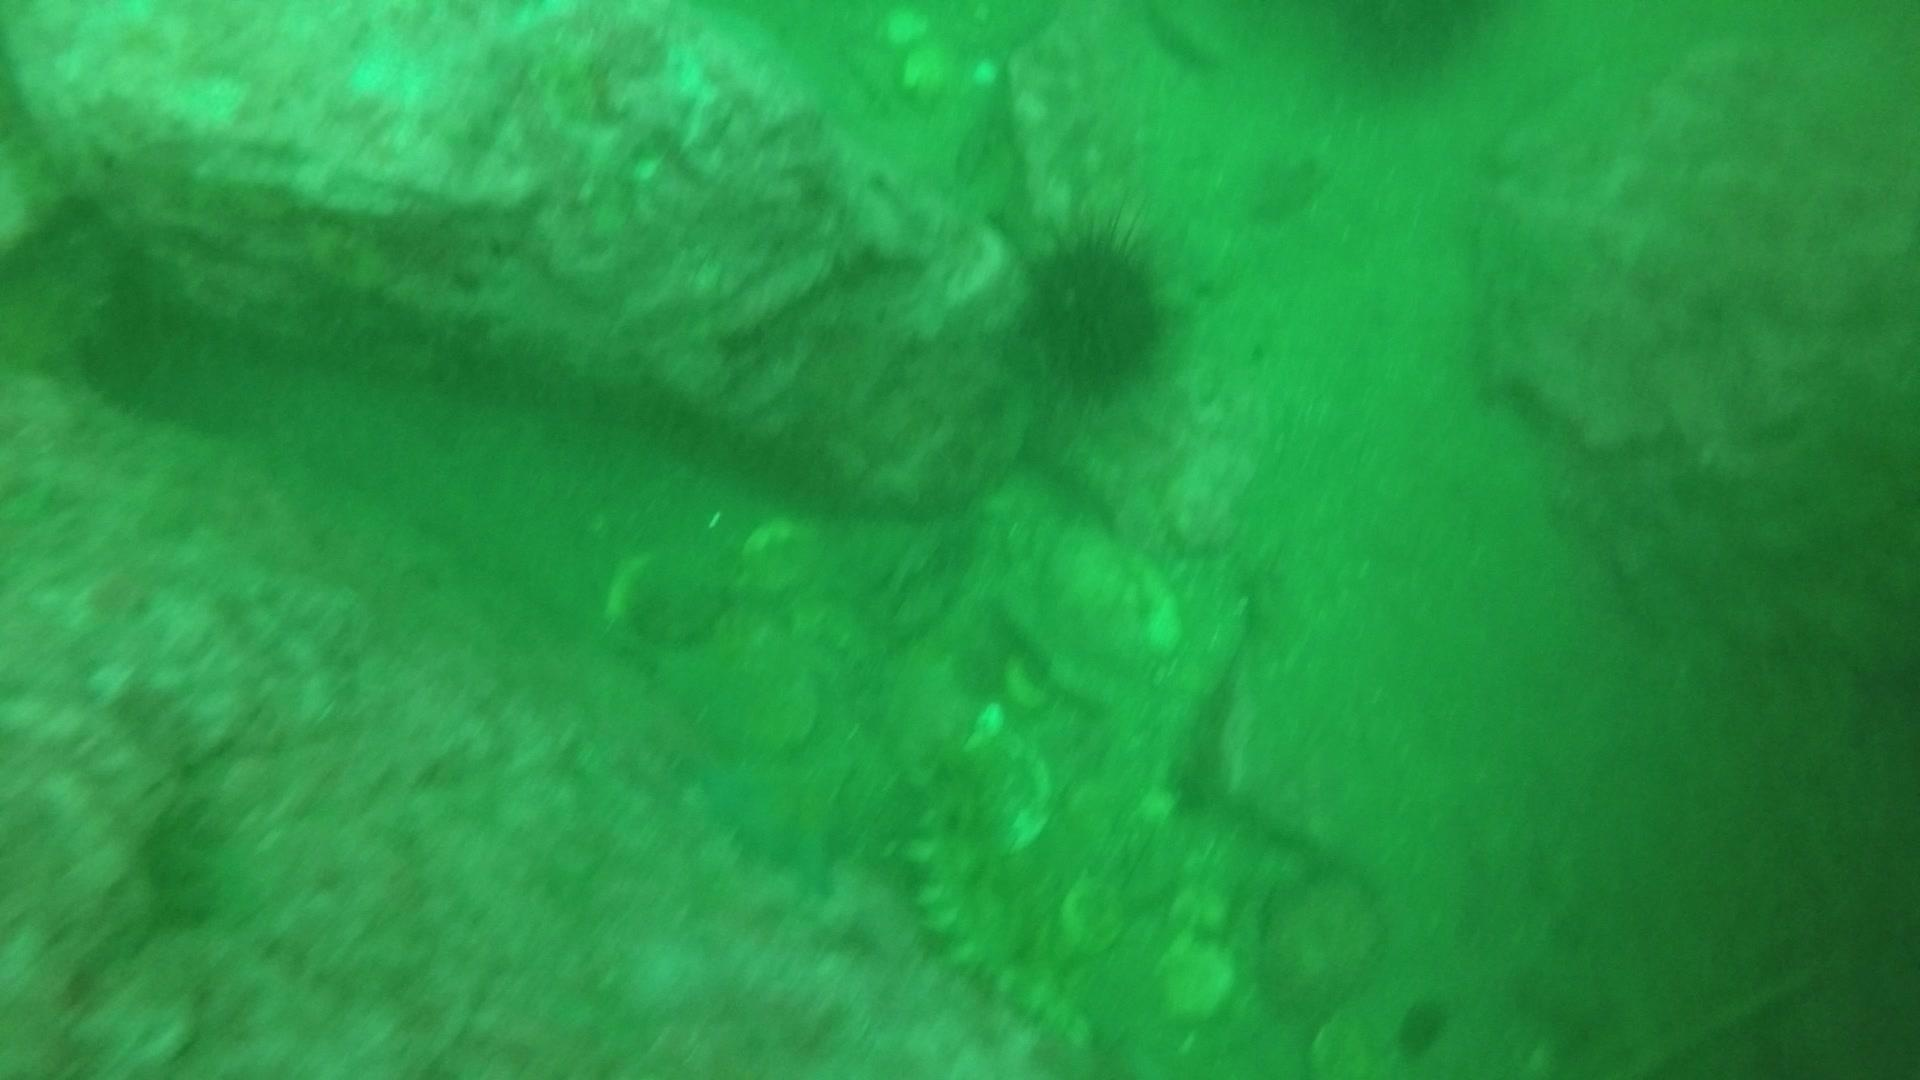echinus: (1005, 212, 1182, 404), (1309, 3, 1509, 95)
holothurian: (895, 798, 1100, 1051)
starfish: (690, 742, 868, 889)
